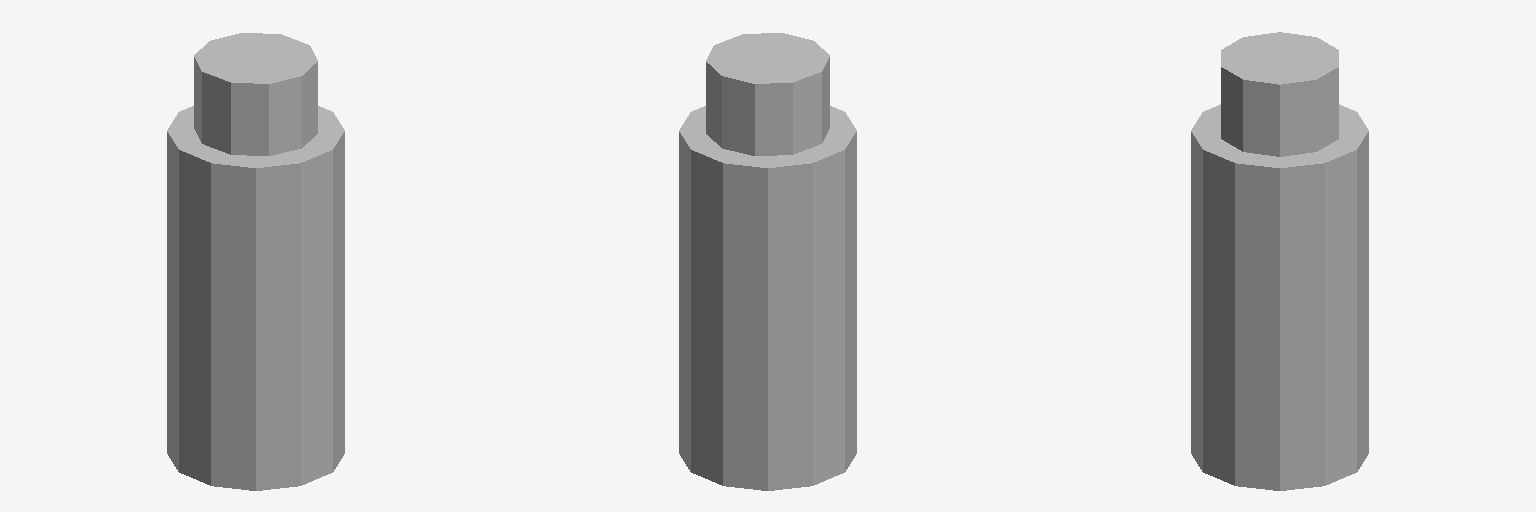
Rendered from Coil.obj.
3 views of the same model, side by side, from view 1: azimuth 30°, elevation 25°; view 2: azimuth 150°, elevation 25°; view 3: azimuth 270°, elevation 25° (orthographic).
Visible parts, largest first — view 1: Coil; view 2: Coil; view 3: Coil.
Boxes of the visible parts, x1=… form: Coil: x1=167, y1=33, x2=344, y2=490; Coil: x1=679, y1=33, x2=856, y2=490; Coil: x1=1191, y1=32, x2=1368, y2=490.
Bounding box in the file's own units: 1 × 2.45 × 1.